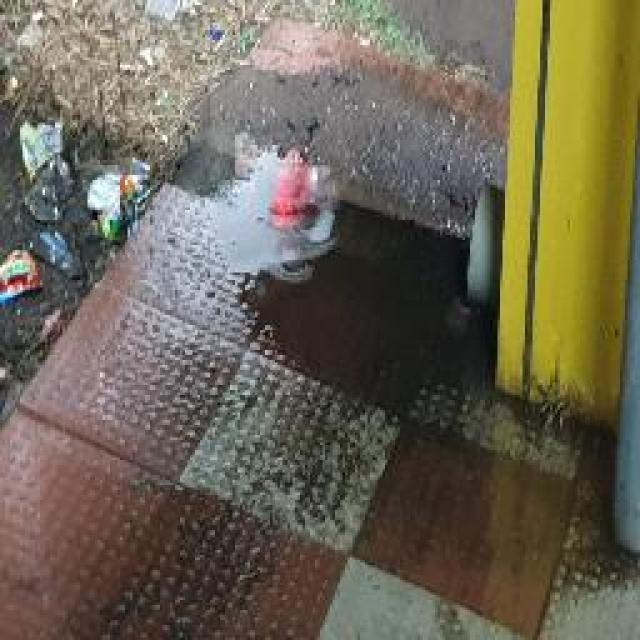stagnation: (181, 168, 466, 399)
